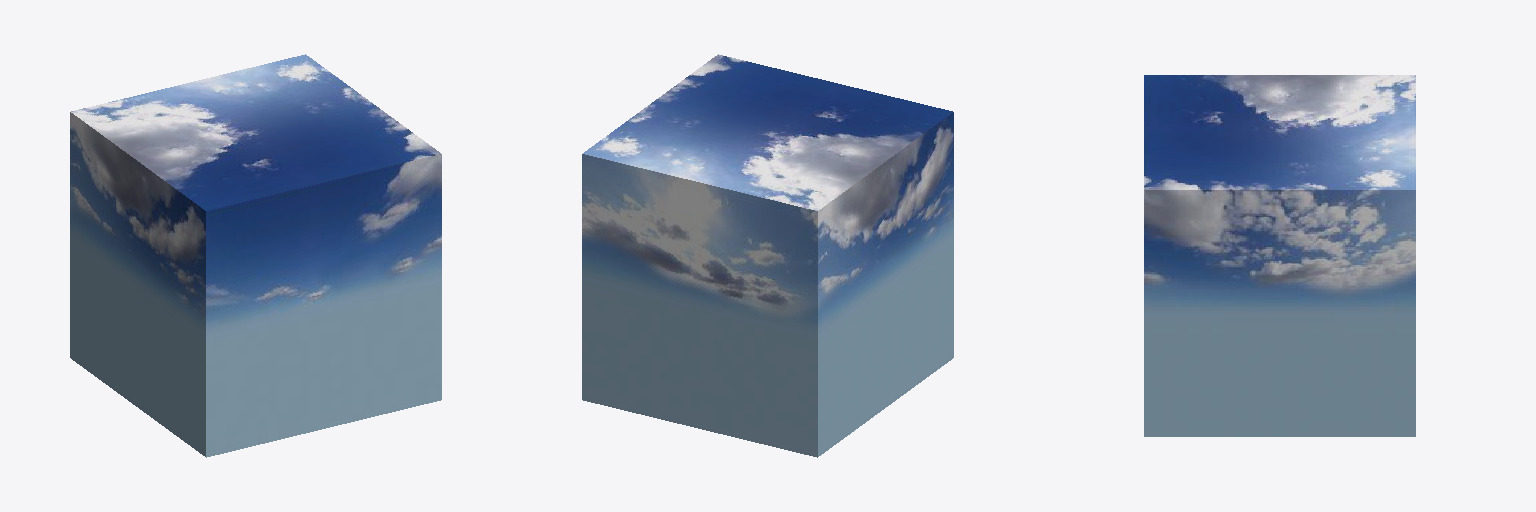
The picture shows the model from 3 angles: view 1: azimuth 30°, elevation 25°; view 2: azimuth 150°, elevation 25°; view 3: azimuth 270°, elevation 25°; orthographic projection.
Visible parts, largest first — view 1: Skybox; view 2: Skybox; view 3: Skybox.
Boxes of the visible parts, <box> form: Skybox: <box>70,54,441,457</box>; Skybox: <box>582,54,953,457</box>; Skybox: <box>1144,75,1415,436</box>.
Bounding box in the file's own units: 36.81 × 36.81 × 36.81.
1 materials, 1 textured.